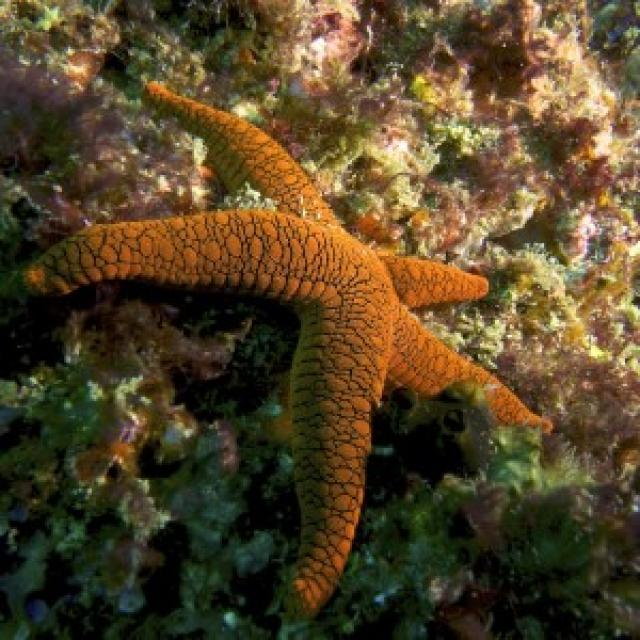Starfish: (30, 70, 552, 622)
